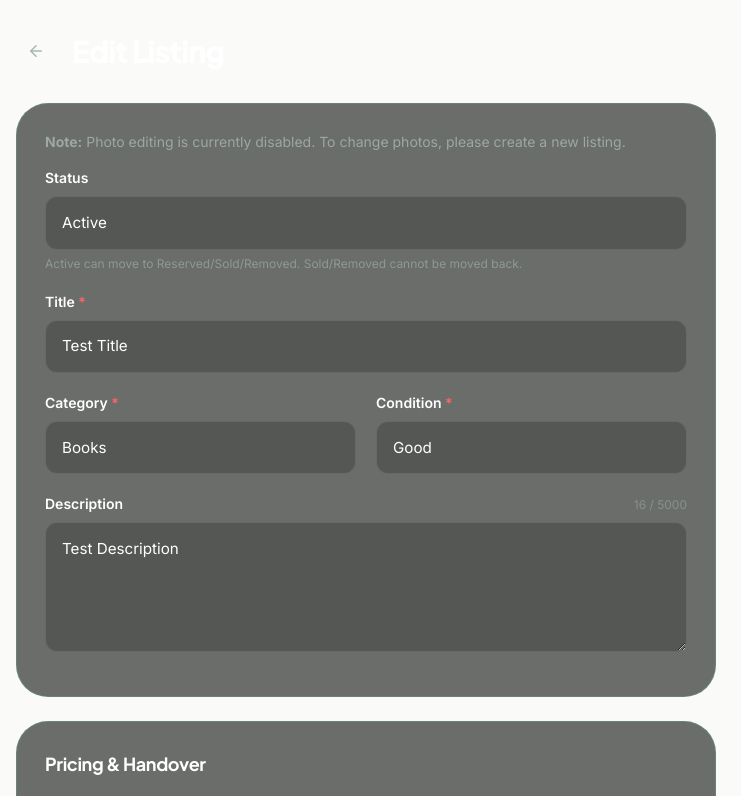
Test case: Phase 2E: Edit Listing › EditListingForm Validations & Successful Update › Successful metadata update works with valid data
Update fields
Replace the text in the field labelled "Title *" with "New Title": (366, 346) top-left (45, 320), bottom-right (687, 373)
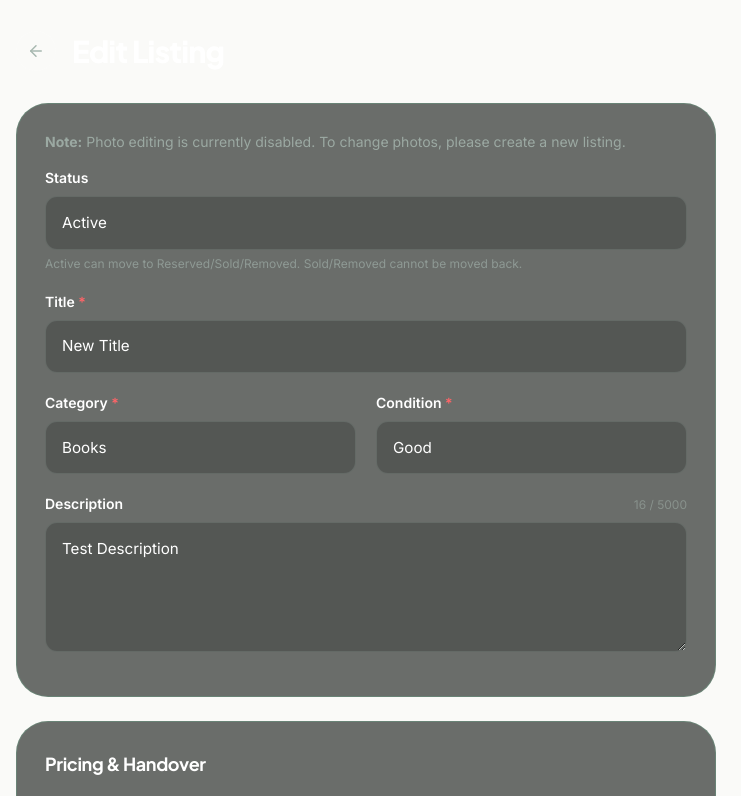
Replace the text in the text box labelled "Description" with "New Description": (366, 588) top-left (45, 522), bottom-right (687, 652)
(page scrolled)
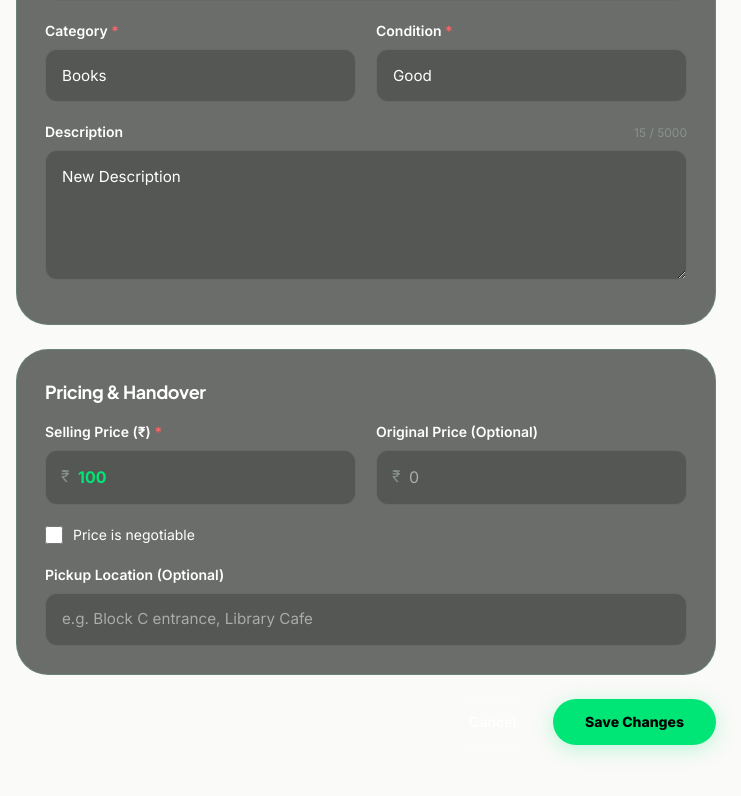
Replace the text in the number field labelled "Selling Price (₹) *" with "150": (200, 478) top-left (45, 450), bottom-right (356, 505)
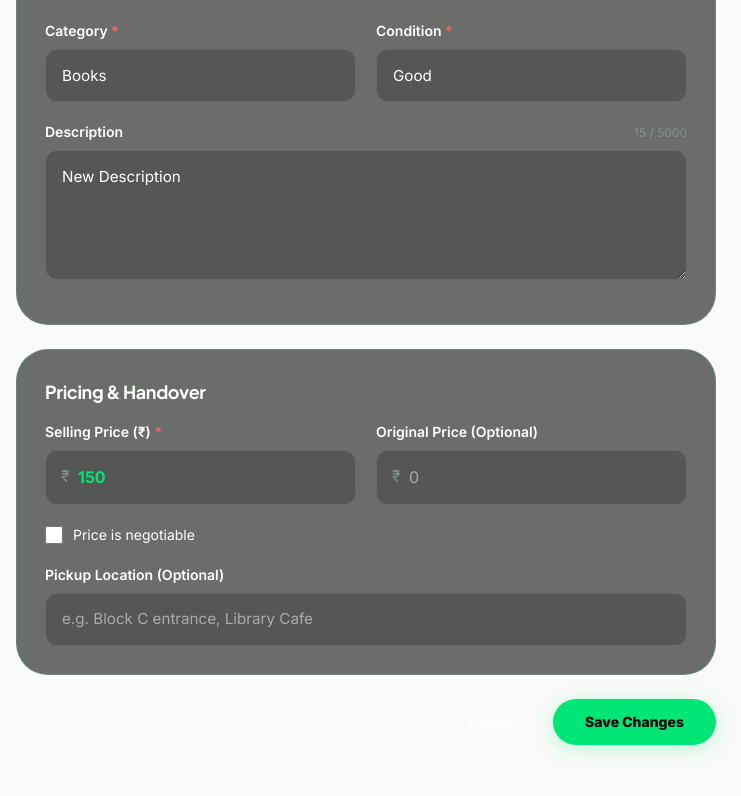
Click the checkbox labelled "Price is negotiable": click(54, 535) top-left (45, 526), bottom-right (63, 544)
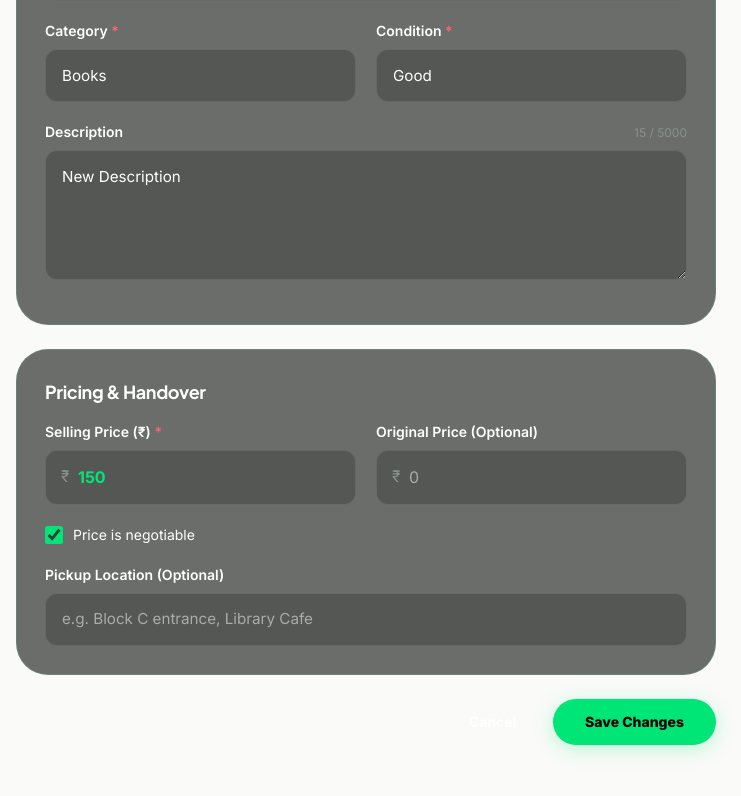
In the field labelled "Pickup Location (Optional)": (366, 620) top-left (45, 593), bottom-right (687, 646), type "Main Gate"
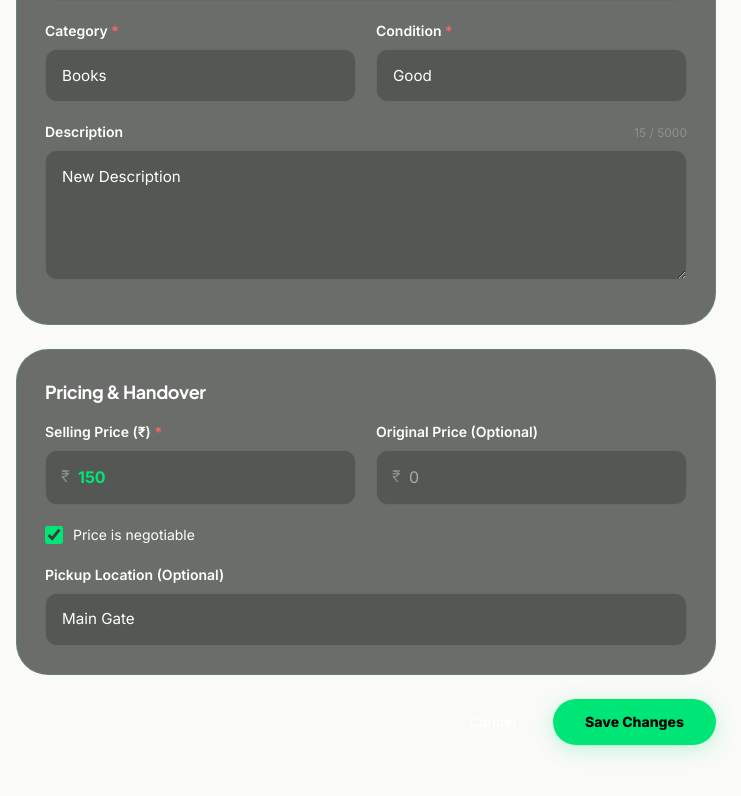
Click the button "Save Changes": click(635, 722) top-left (553, 699), bottom-right (716, 745)
(page scrolled)
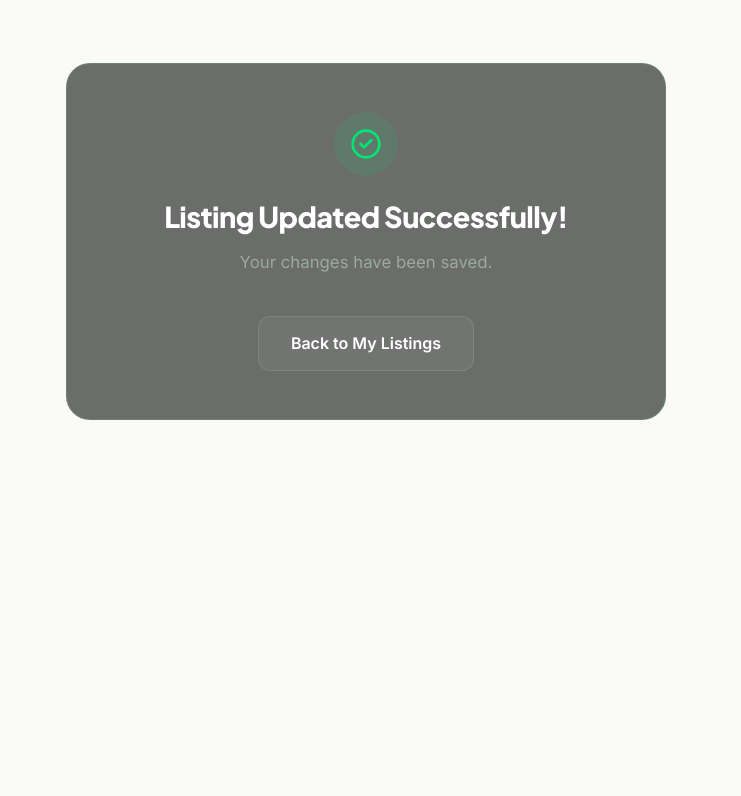
Now the heading "Listing Updated Successfully!" is shown, box top-left (164, 198), bottom-right (568, 234)
